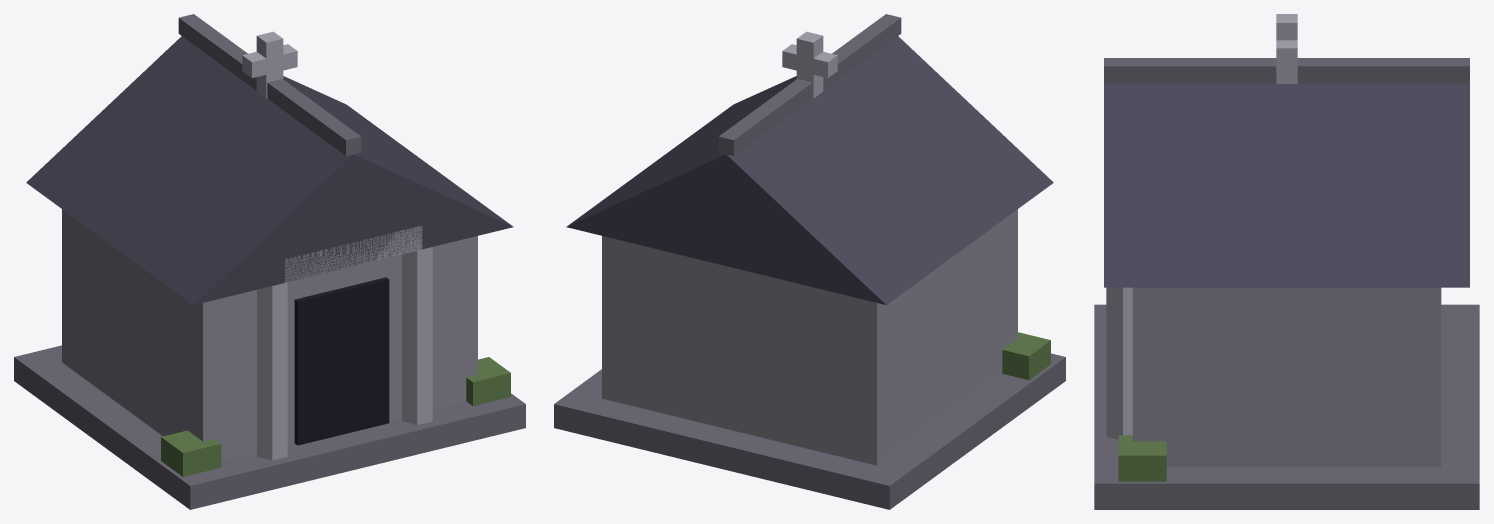
The model's file is env_r4_crypt.glb.
3 views of the same model, side by side, from view 1: azimuth 30°, elevation 25°; view 2: azimuth 150°, elevation 25°; view 3: azimuth 270°, elevation 25° (orthographic). The views are drawn at different scales.
Parts seen in each view (by area): view 1: env_r4_crypt; view 2: env_r4_crypt; view 3: env_r4_crypt.
Boxes of the visible parts, <box> form: env_r4_crypt: <box>14,14,525,509</box>; env_r4_crypt: <box>554,14,1065,509</box>; env_r4_crypt: <box>1094,14,1479,509</box>.
Size of the model in its own units: 4.4 by 4.6 by 4.
Materials: 1 (1 with a texture image).
